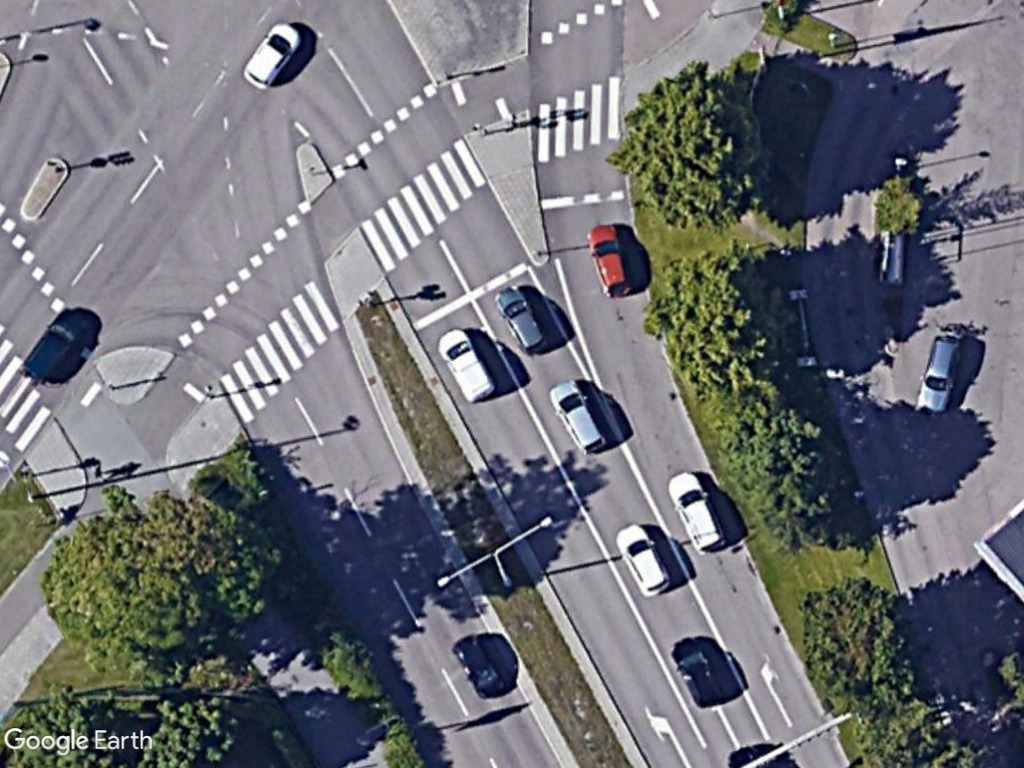car: (19, 301, 93, 386), (669, 465, 731, 557), (546, 375, 611, 459), (907, 328, 965, 418), (615, 517, 676, 602), (667, 632, 729, 712), (240, 18, 306, 93), (491, 282, 553, 357), (585, 218, 638, 302)
van: (437, 326, 499, 407)
